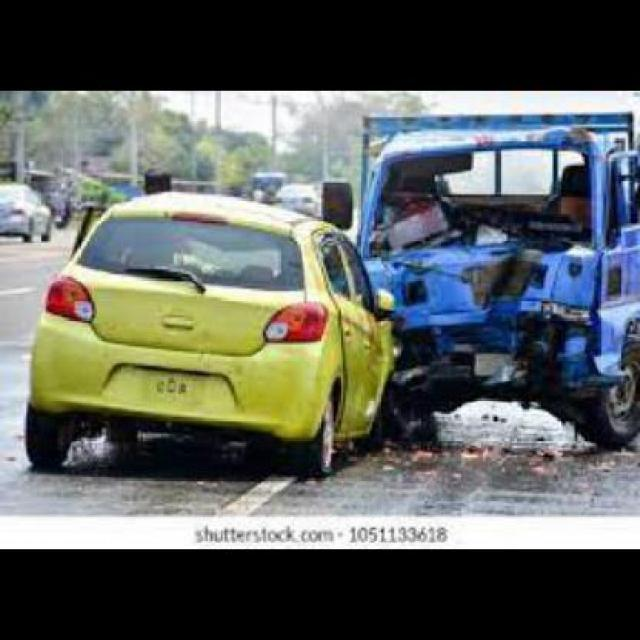accident: (26, 103, 639, 485)
